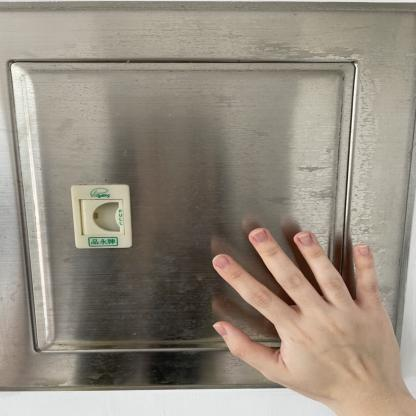bare_hand: (197, 216, 412, 412)
